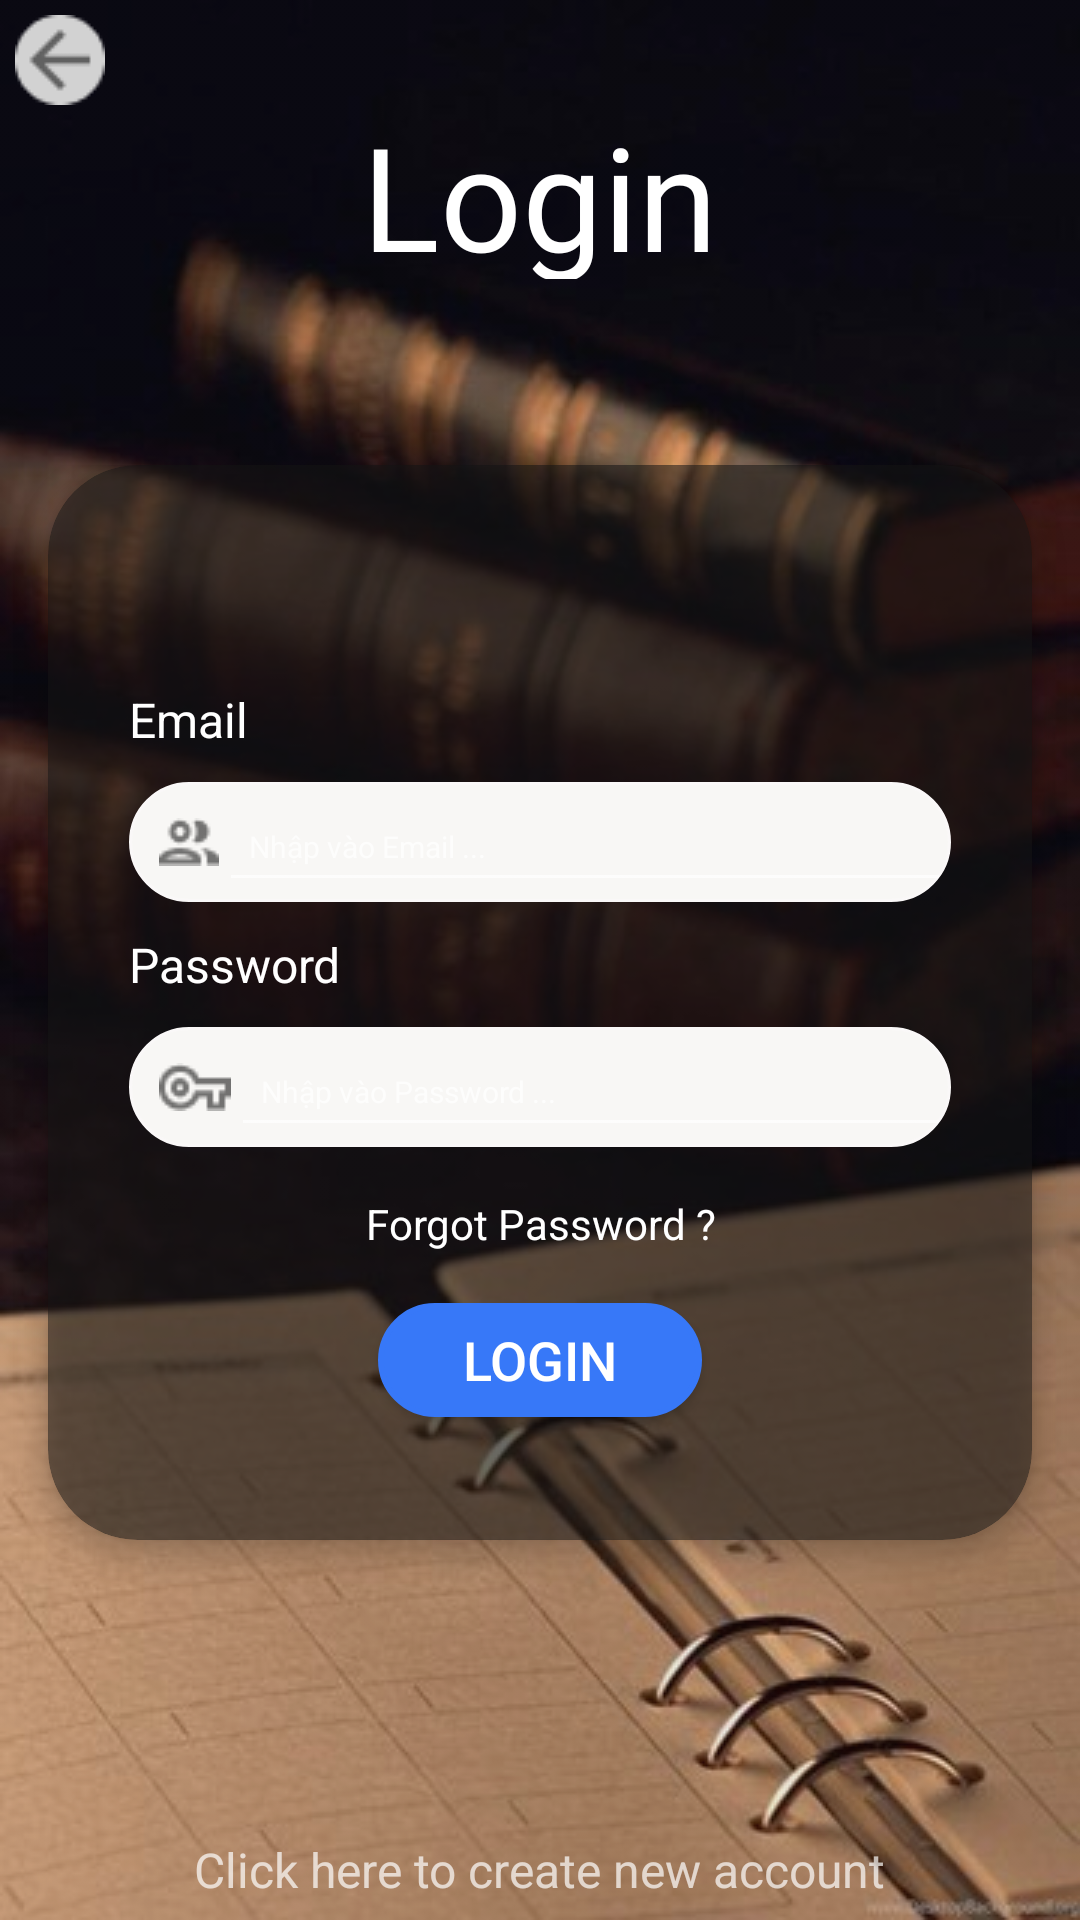

Where icons sit on this 1080*1920 app screen, as bbox=(x1, y1, x2, y2):
back: bbox=(15, 15, 105, 105)
people: bbox=(159, 820, 219, 866)
vpn key: bbox=(159, 1065, 231, 1111)
